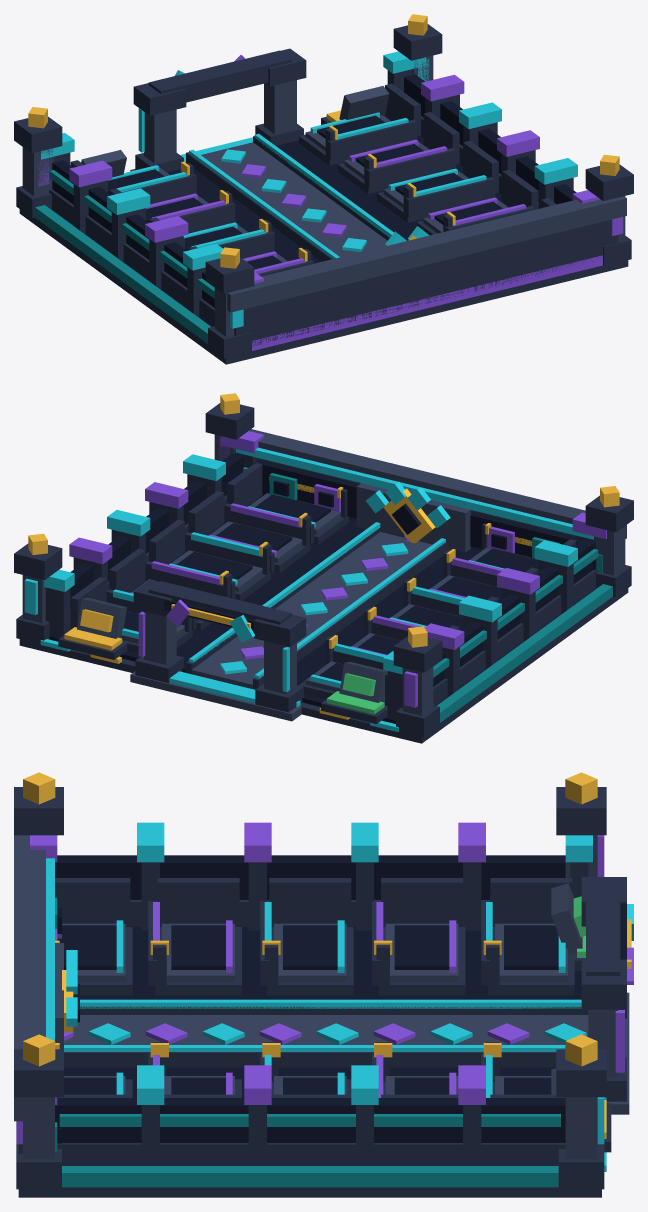
File: KLC_Plot_PlayerBase.fbx
3 renders of one model, top to bottom at view 1: azimuth 30°, elevation 25°; view 2: azimuth 150°, elevation 25°; view 3: azimuth 270°, elevation 25°, orthographic. The views are drawn at different scales.
Parts seen in each view (by area): view 1: RearWall, RearWallTop, Aisle_Core, Base_Inset, Base_Lower, Base_BackEdge, Base_LeftEdge, EntranceBeam, Spine_Base_-1, Spine_Panel_1, Spine_Panel_-1, Stable_8_RearDivider (+53 smaller); view 2: Base_Inset, Aisle_Core, RearWallTop, Base_LeftEdge, RearWallTopGlow, Base_Lower, RearWallInset, RearEmblemPlate, Spine_Panel_1, Spine_Base_-1, EntranceBeam, Spine_Panel_-1 (+72 smaller); view 3: Spine_Panel_1, Base_Inset, Base_RightEdge, Spine_Panel_-1, Aisle_Core, Spine_Base_1, Aisle_RightRail, RearWallTop, Base_Lower, Spine_Glow_1, Aisle_LeftGlow, Aisle_LeftRail (+66 smaller).
Boxes of the visible parts, x1,y1,x2,y2 form: RearWall: (234, 220, 618, 346); RearWallTop: (227, 196, 626, 312); Aisle_Core: (201, 142, 387, 257); Base_Inset: (51, 120, 509, 326); Base_Lower: (19, 209, 628, 364); Base_BackEdge: (252, 255, 602, 350); Base_LeftEdge: (35, 205, 210, 343); EntranceBeam: (148, 50, 291, 102); Spine_Base_-1: (49, 189, 214, 326); Spine_Panel_1: (404, 74, 576, 204); Spine_Panel_-1: (52, 160, 214, 307); Stable_8_RearDivider: (405, 177, 495, 217); Base_Inset: (49, 498, 596, 723); Aisle_Core: (191, 532, 432, 688); RearWallTop: (249, 429, 626, 538); Base_LeftEdge: (437, 584, 612, 722); RearWallTopGlow: (235, 447, 593, 539); Base_Lower: (19, 588, 628, 743); RearWallInset: (254, 460, 576, 557); RearEmblemPlate: (356, 483, 470, 552); Spine_Panel_1: (70, 453, 243, 608); Spine_Base_-1: (433, 569, 597, 705); EntranceBeam: (148, 581, 291, 632); Spine_Panel_-1: (433, 539, 595, 686); Spine_Panel_1: (55, 1098, 565, 1142); Base_Inset: (64, 926, 581, 1097); Base_RightEdge: (62, 1166, 558, 1187); Spine_Panel_-1: (55, 855, 565, 899); Aisle_Core: (64, 1015, 588, 1044); Spine_Base_1: (57, 1143, 565, 1165); Aisle_RightRail: (64, 1052, 556, 1067); RearWallTop: (14, 835, 45, 1121); Base_Lower: (18, 1187, 601, 1197); Spine_Glow_1: (59, 1114, 560, 1126); Aisle_LeftGlow: (80, 999, 581, 1008); Aisle_LeftRail: (80, 1006, 588, 1014).
Size of the model in its own units: 1838 by 450 by 1700.
8 materials, 8 textured.
